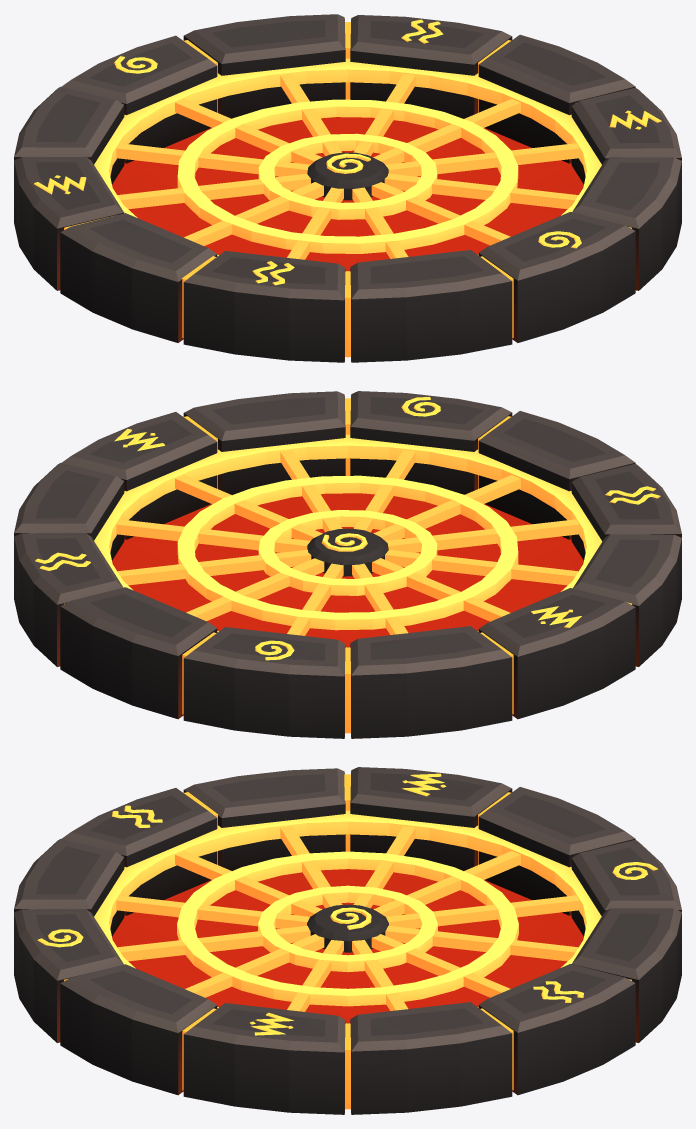
The model's file is updraft_vent_volcano.glb.
The picture shows the model from 3 angles, top to bottom: view 1: azimuth 30°, elevation 25°; view 2: azimuth 150°, elevation 25°; view 3: azimuth 270°, elevation 25°; orthographic projection.
Visible parts, largest first — view 1: updraft_vent_volcano; view 2: updraft_vent_volcano; view 3: updraft_vent_volcano.
Boxes of the visible parts, x1=… form: updraft_vent_volcano: x1=14, y1=14, x2=681, y2=362; updraft_vent_volcano: x1=14, y1=391, x2=681, y2=738; updraft_vent_volcano: x1=14, y1=767, x2=681, y2=1114.
Size of the model in its own units: 2.6 by 0.3 by 2.6.
